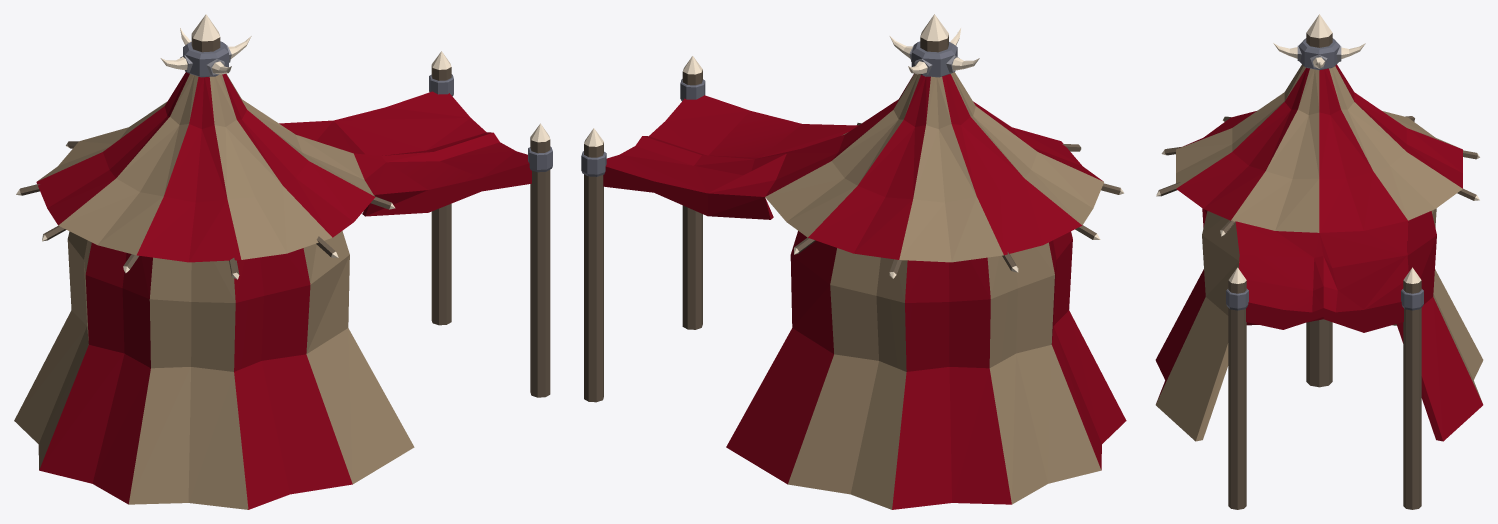
The model's file is tent_1.fbx.
The picture shows the model from 3 angles, left to right: view 1: azimuth 30°, elevation 25°; view 2: azimuth 150°, elevation 25°; view 3: azimuth 270°, elevation 25°; orthographic projection. The views are drawn at different scales.
Parts seen in each view (by area): view 1: tent_1; view 2: tent_1; view 3: tent_1.
Part boxes in pixels (x1=…): tent_1: x1=14, y1=14, x2=552, y2=509; tent_1: x1=581, y1=14, x2=1126, y2=509; tent_1: x1=1155, y1=14, x2=1483, y2=509.
Size of the model in its own units: 1008 by 860 by 695.
